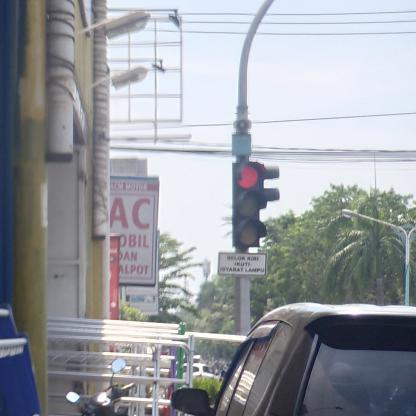red: (232, 160, 266, 248)
